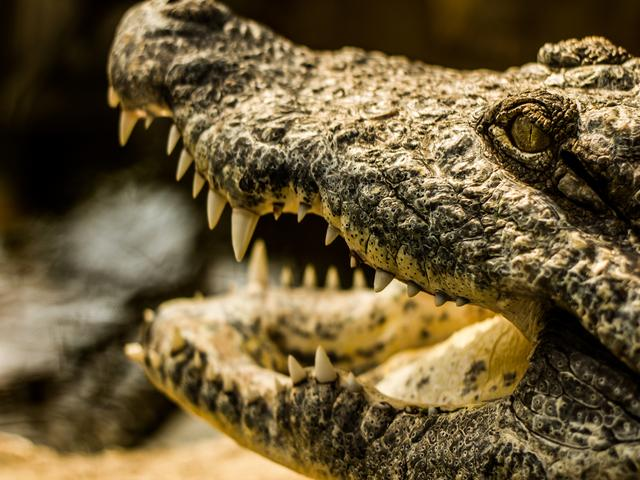crocodile: (62, 7, 640, 476)
